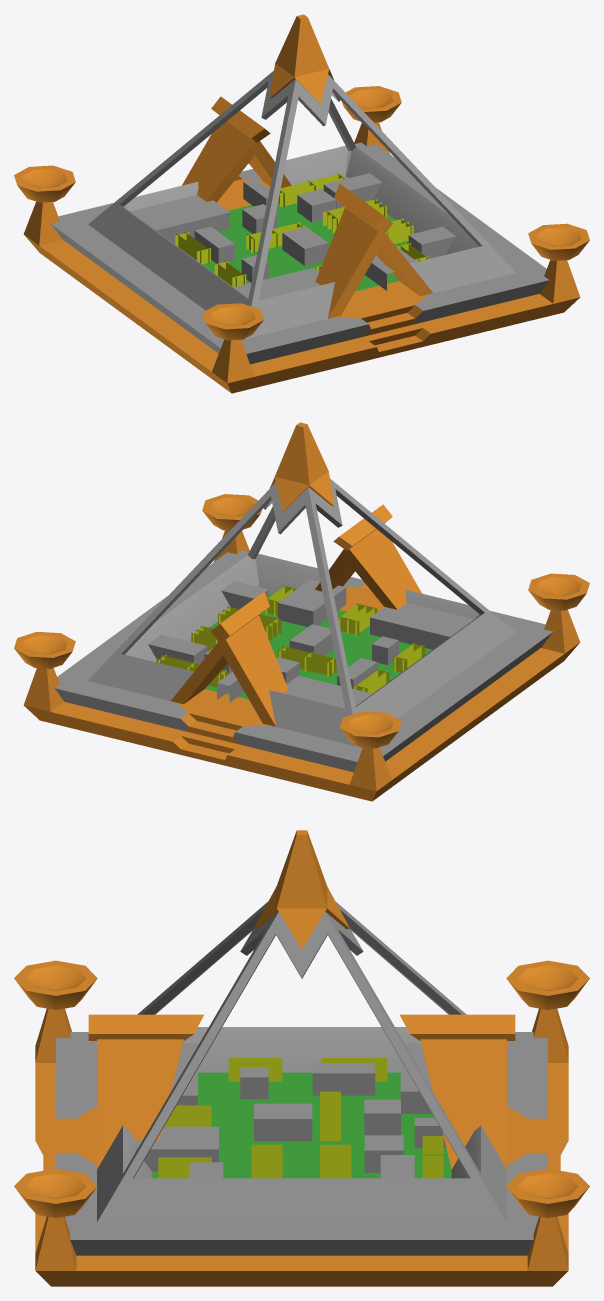
Rendered from green_house_mid.FBX.
3 renders of one model, top to bottom at view 1: azimuth 30°, elevation 25°; view 2: azimuth 150°, elevation 25°; view 3: azimuth 270°, elevation 25°, orthographic. The views are drawn at different scales.
Parts seen in each view (by area): view 1: green_house_mid; view 2: green_house_mid; view 3: green_house_mid.
Part boxes in pixels (left/top/right/bottom): green_house_mid: left=14, top=14, right=589, bottom=393; green_house_mid: left=14, top=422, right=589, bottom=801; green_house_mid: left=14, top=830, right=589, bottom=1286.
Bounding box in the file's own units: 14044 × 9361 × 14045.
